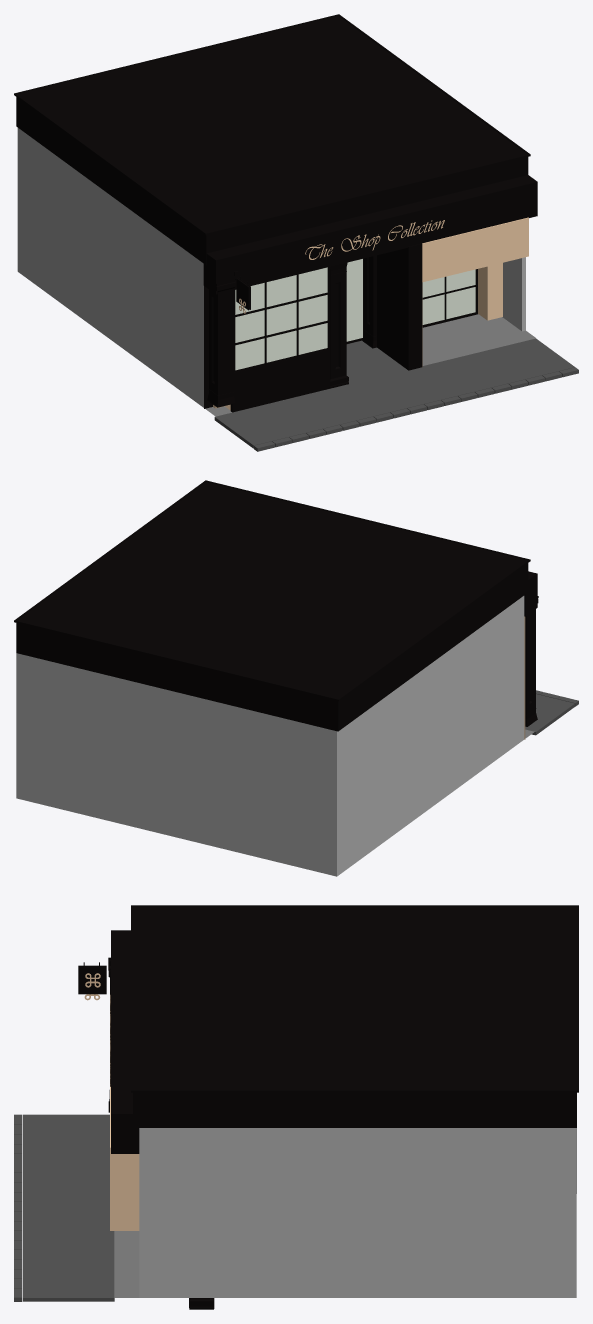
3 renders of one model, top to bottom at view 1: azimuth 30°, elevation 25°; view 2: azimuth 150°, elevation 25°; view 3: azimuth 270°, elevation 25°, orthographic. The views are drawn at different scales.
Visible parts, largest first — view 1: Rectangle001, Wall001, Box001, Plane006, Group082, Box384, Box383, Plane001, Box381, Group085, Box373, FixedWindow001 (+8 smaller); view 2: Rectangle001, Wall001, Box381, Plane006; view 3: Rectangle001, Wall001, Plane006, Box001, Plane001, Box383, Plane010, Box353.
Boxes of the visible parts, x1=… form: Rectangle001: x1=14, y1=14, x2=530, y2=265; Wall001: x1=17, y1=128, x2=525, y2=407; Box001: x1=203, y1=175, x2=537, y2=294; Plane006: x1=214, y1=338, x2=574, y2=448; Group082: x1=230, y1=267, x2=330, y2=412; Box384: x1=377, y1=243, x2=422, y2=370; Box383: x1=422, y1=217, x2=528, y2=282; Plane001: x1=205, y1=314, x2=535, y2=416; Box381: x1=207, y1=279, x2=236, y2=407; Group085: x1=422, y1=269, x2=475, y2=324; Box373: x1=329, y1=262, x2=348, y2=388; FixedWindow001: x1=234, y1=267, x2=330, y2=373; Rectangle001: x1=14, y1=480, x2=530, y2=731; Wall001: x1=16, y1=596, x2=524, y2=876; Box381: x1=525, y1=596, x2=538, y2=726; Plane006: x1=525, y1=694, x2=574, y2=735; Rectangle001: x1=131, y1=905, x2=578, y2=1127; Wall001: x1=139, y1=1128, x2=576, y2=1297; Plane006: x1=23, y1=1114, x2=114, y2=1301; Box001: x1=111, y1=930, x2=139, y2=1153; Plane001: x1=114, y1=1231, x2=139, y2=1297; Box383: x1=110, y1=1086, x2=139, y2=1192; Plane010: x1=110, y1=1192, x2=139, y2=1230; Box353: x1=79, y1=966, x2=105, y2=993.
Size of the model in its own units: 1636 by 906 by 2108.
